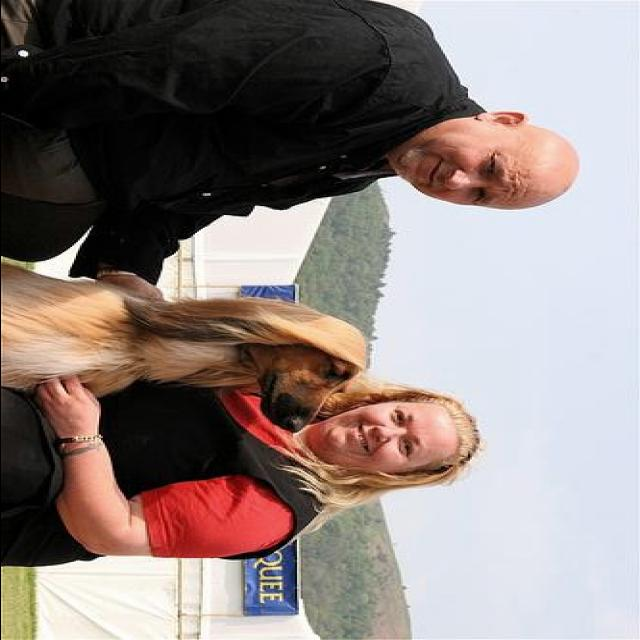afghan_hound: (1, 257, 364, 435)
